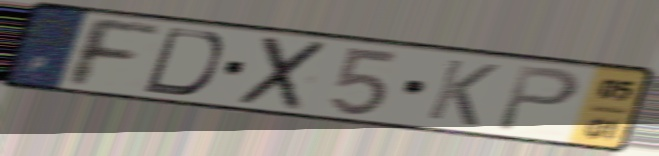5: (326, 44, 406, 117)
D: (138, 25, 228, 98)
F: (65, 14, 165, 91)
K: (422, 56, 504, 129)
P: (492, 62, 584, 135)
X: (233, 34, 333, 113)
